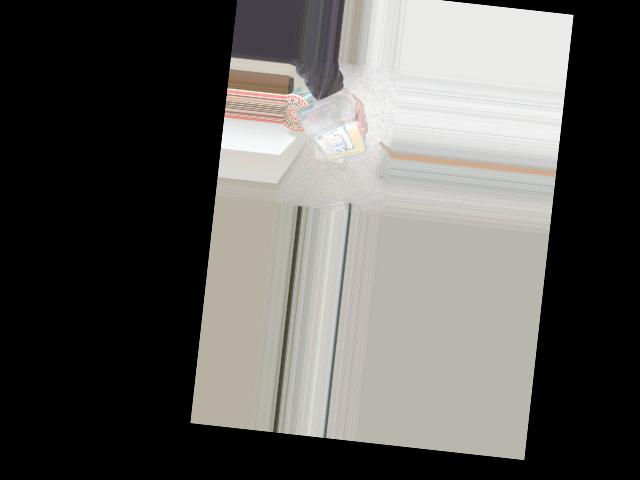cheese: (290, 88, 362, 169)
